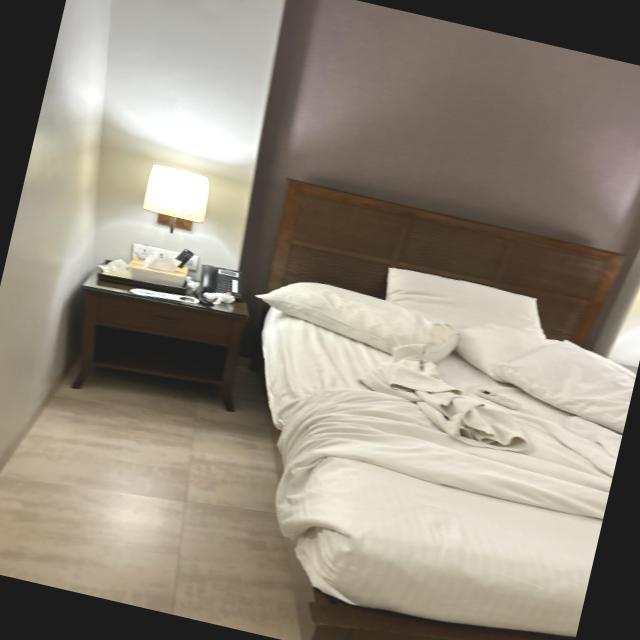mess: (198, 195, 640, 640), (48, 214, 274, 343)
